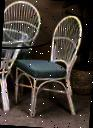Silla: (14, 12, 82, 121), (0, 0, 42, 95)
